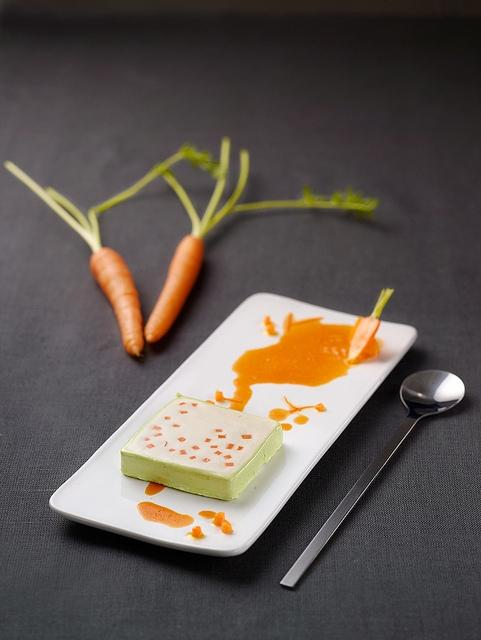carrot: (4, 142, 222, 358), (144, 234, 204, 344), (346, 287, 394, 363), (290, 316, 324, 326), (213, 511, 225, 527), (284, 312, 293, 331), (222, 520, 234, 534), (192, 526, 202, 536)
